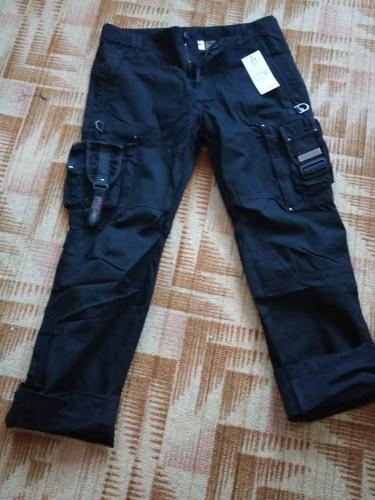pants: (17, 13, 375, 441)
